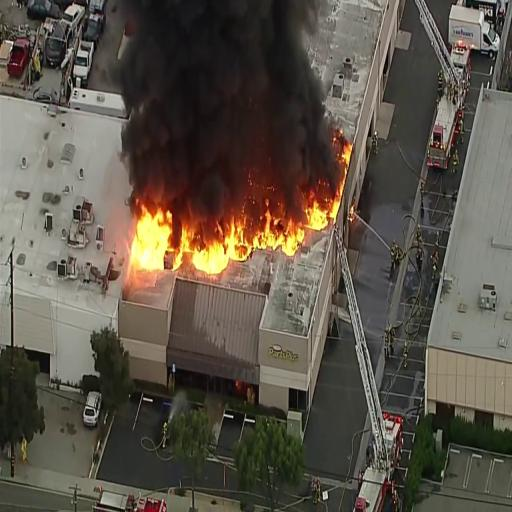fire: (194, 224, 241, 281), (251, 206, 303, 256), (138, 212, 173, 270), (301, 197, 330, 233)
smoke: (140, 0, 300, 185)
